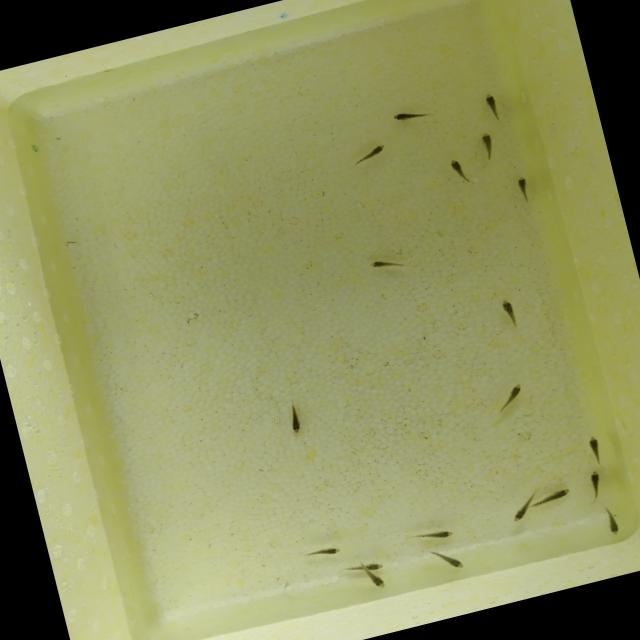fingerling: (441, 150, 474, 186), (434, 546, 468, 576), (598, 504, 626, 540), (504, 500, 536, 530), (386, 102, 422, 128), (416, 523, 454, 546), (494, 292, 522, 323), (508, 171, 536, 201), (480, 87, 504, 122), (540, 482, 574, 506), (361, 252, 396, 274), (358, 140, 392, 162), (475, 130, 499, 160), (584, 468, 608, 497), (585, 431, 606, 464), (362, 568, 390, 592), (501, 380, 527, 404), (286, 408, 306, 438), (313, 543, 344, 559), (360, 558, 384, 574)
